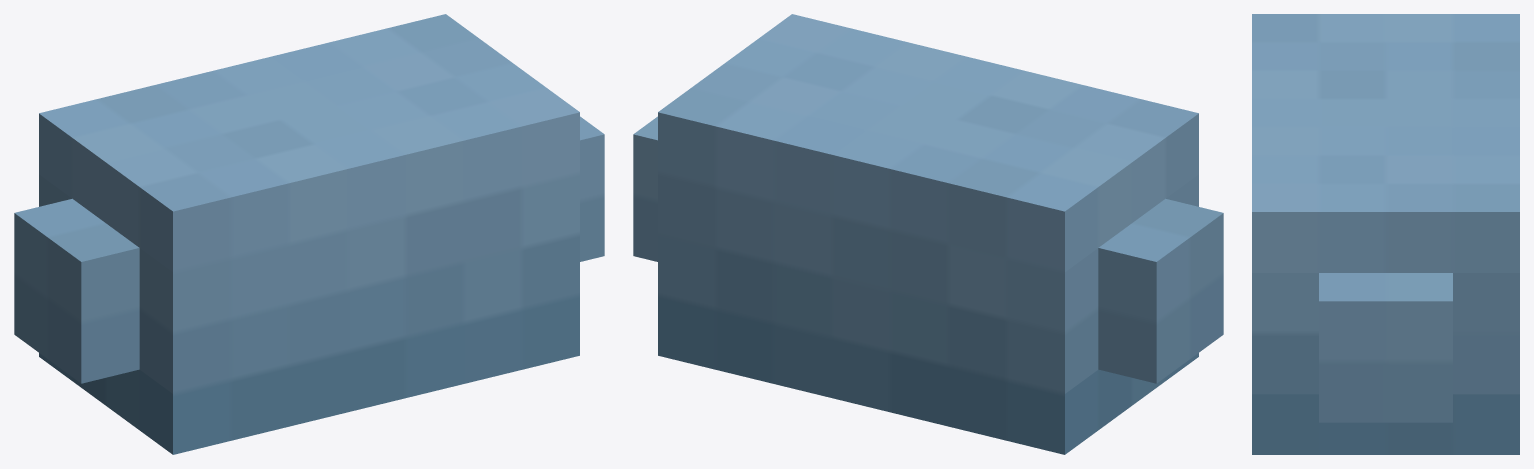
File: Shoulder071.fbx
3 renders of one model, left to right at view 1: azimuth 30°, elevation 25°; view 2: azimuth 150°, elevation 25°; view 3: azimuth 270°, elevation 25°, orthographic.
Visible parts, largest first — view 1: Shoulder071; view 2: Shoulder071; view 3: Shoulder071.
Part boxes in pixels (x1,y1,x2,y2): Shoulder071: [14, 14, 604, 454]; Shoulder071: [633, 14, 1223, 454]; Shoulder071: [1252, 14, 1519, 454].
Size of the model in its own units: 9 by 4 by 4.
